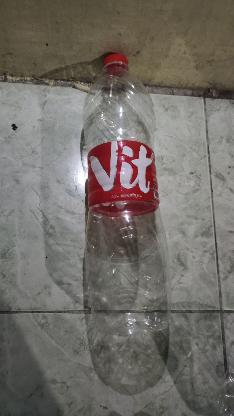Plastic Bottle: (80, 53, 172, 335)
